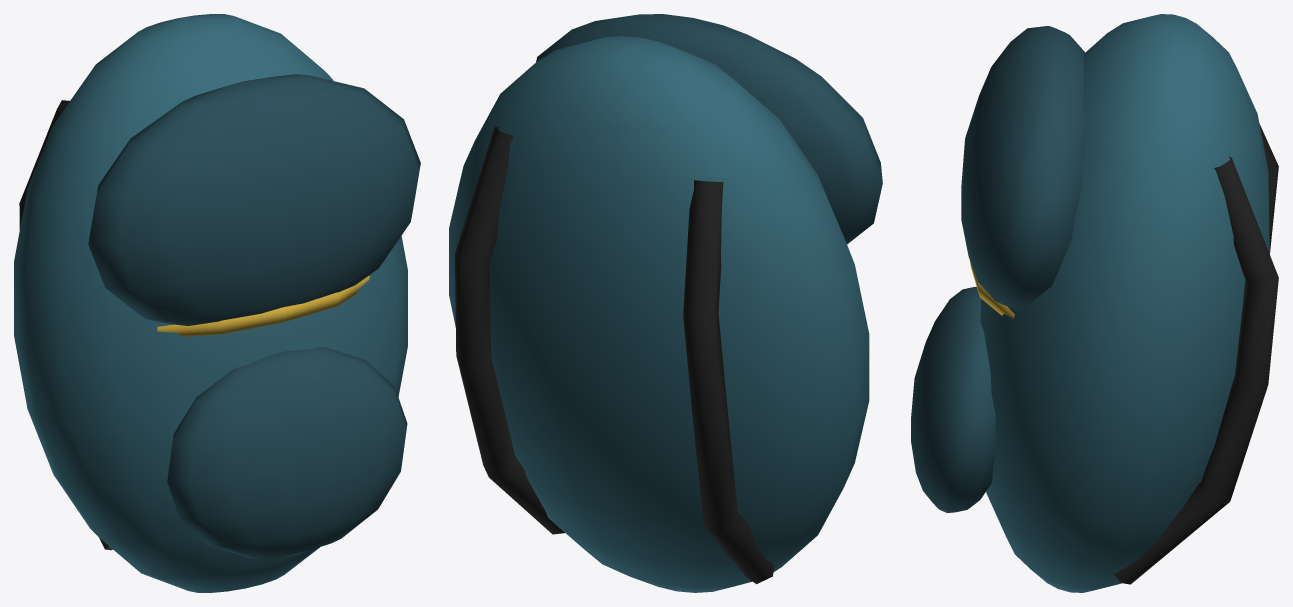
Rendered from Hut_Backpack_Col.fbx.
3 views of the same model, side by side, from view 1: azimuth 30°, elevation 25°; view 2: azimuth 150°, elevation 25°; view 3: azimuth 270°, elevation 25° (orthographic). The views are drawn at different scales.
Parts seen in each view (by area): view 1: Hut_Backpack_Col; view 2: Hut_Backpack_Col; view 3: Hut_Backpack_Col.
Part boxes in pixels (x1,y1,x2,y2): Hut_Backpack_Col: [14, 14, 420, 592]; Hut_Backpack_Col: [449, 14, 882, 592]; Hut_Backpack_Col: [911, 14, 1278, 592].
Size of the model in its own units: 20 by 27.57 by 16.76.
